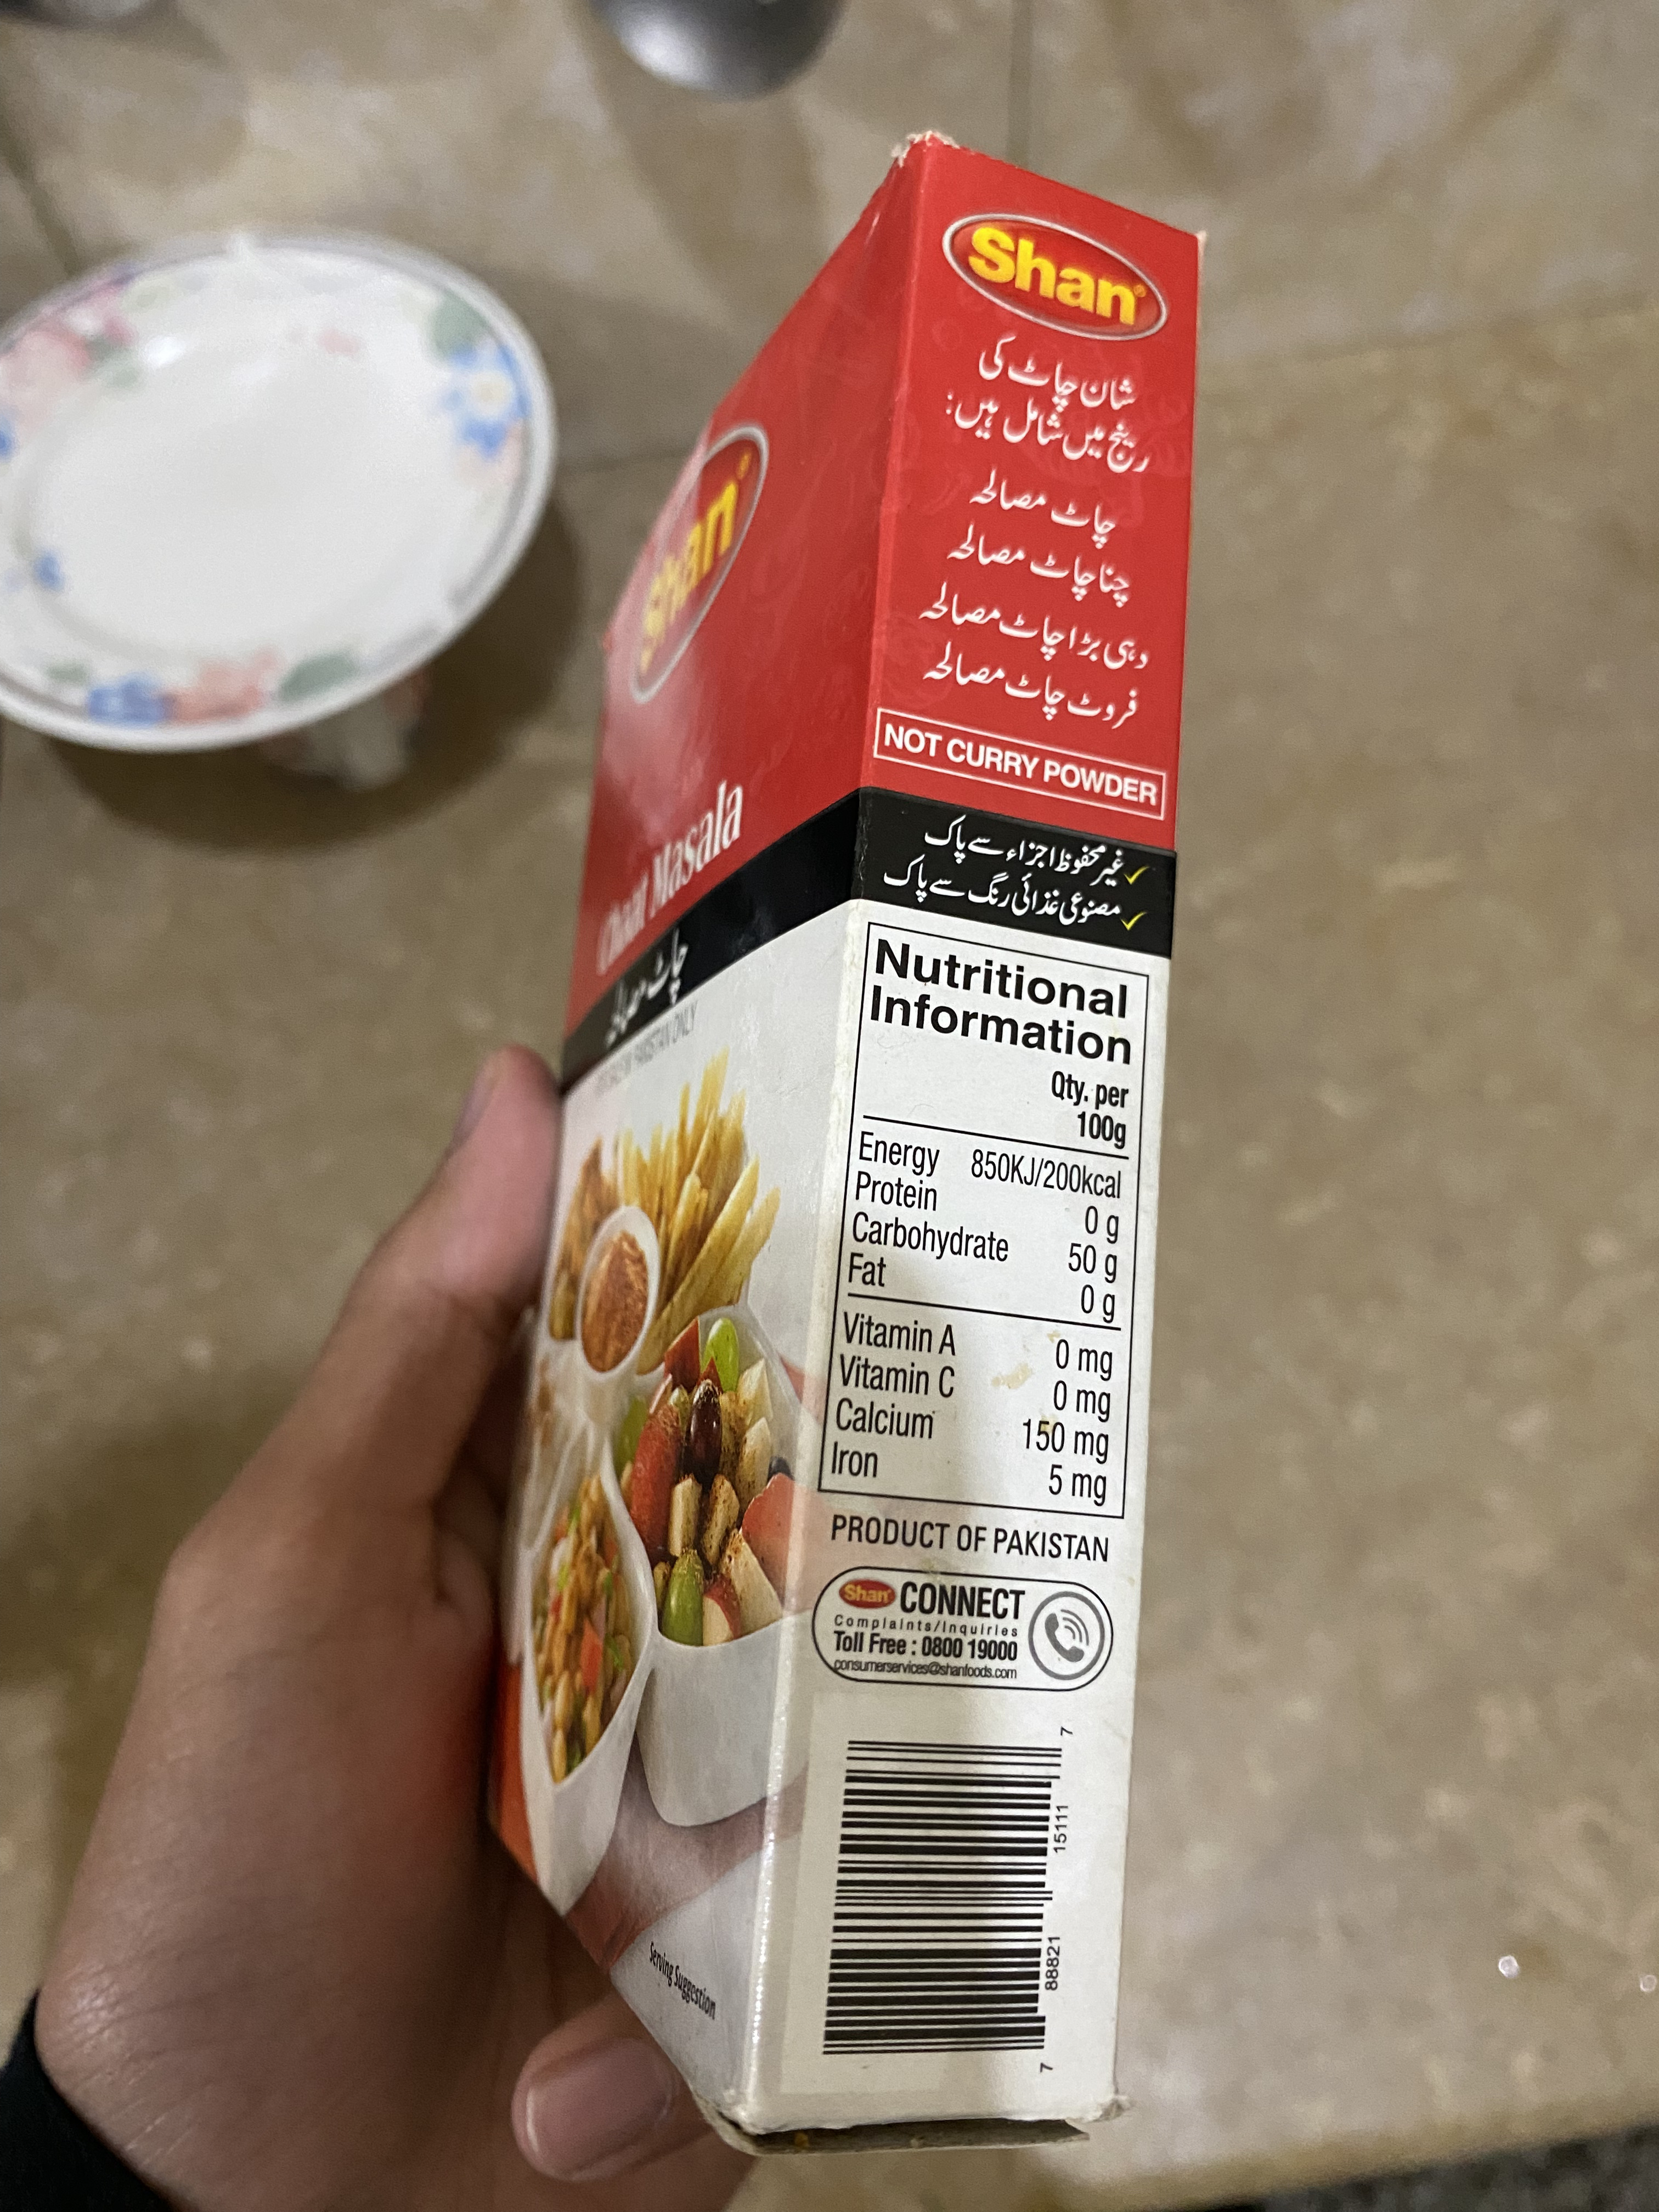table: (809, 914, 1152, 1534)
